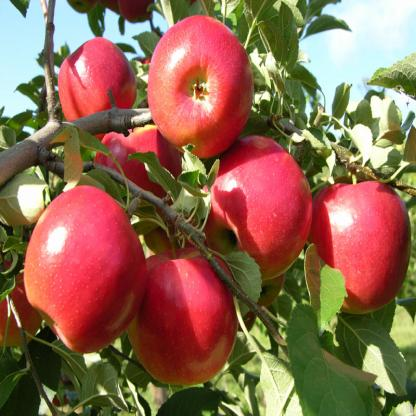apple: (27, 178, 148, 362), (116, 238, 240, 394), (197, 132, 316, 281), (306, 165, 412, 326), (139, 15, 260, 149), (86, 121, 187, 226), (52, 37, 138, 152)
